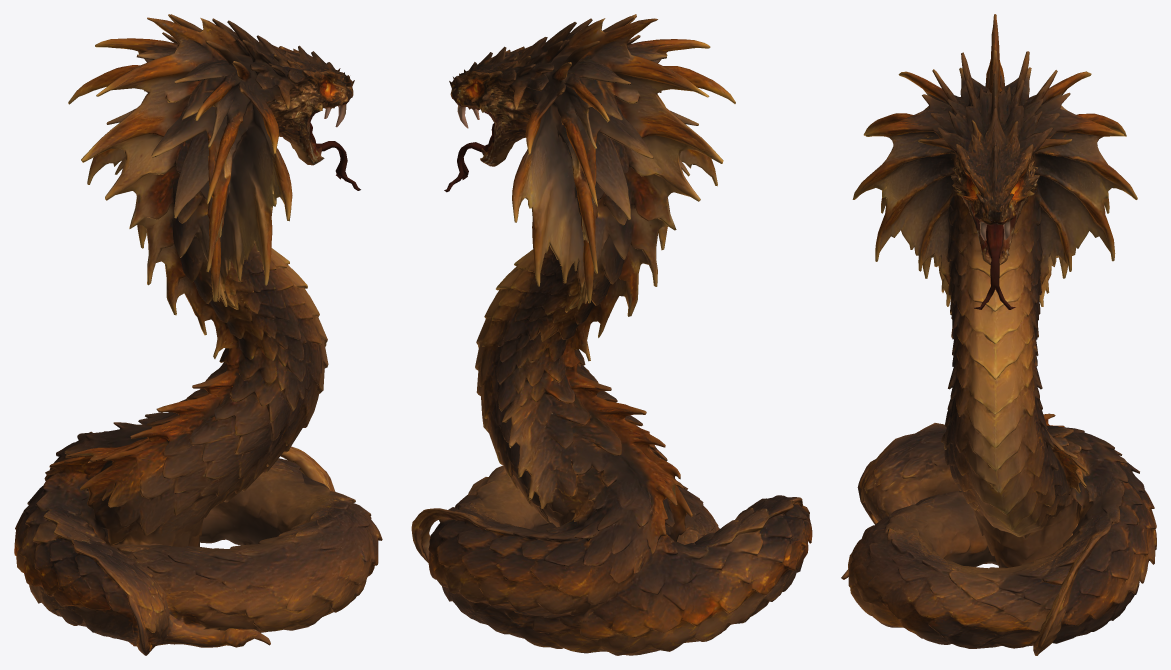
The model's file is snake-tripo.glb.
The picture shows the model from 3 angles, left to right: view 1: azimuth 30°, elevation 25°; view 2: azimuth 150°, elevation 25°; view 3: azimuth 270°, elevation 25°; orthographic projection. The views are drawn at different scales.
Visible parts, largest first — view 1: tripo_node_517381e9-a08b-471a-be16-4d43c6e4a2db; view 2: tripo_node_517381e9-a08b-471a-be16-4d43c6e4a2db; view 3: tripo_node_517381e9-a08b-471a-be16-4d43c6e4a2db.
Boxes of the visible parts, x1,y1,x2,y2 form: tripo_node_517381e9-a08b-471a-be16-4d43c6e4a2db: (14,14,382,655); tripo_node_517381e9-a08b-471a-be16-4d43c6e4a2db: (411,14,812,655); tripo_node_517381e9-a08b-471a-be16-4d43c6e4a2db: (841,14,1156,655).
Bounding box in the file's own units: 0.597 × 1 × 0.5143.
Materials: 1 (1 with a texture image).
